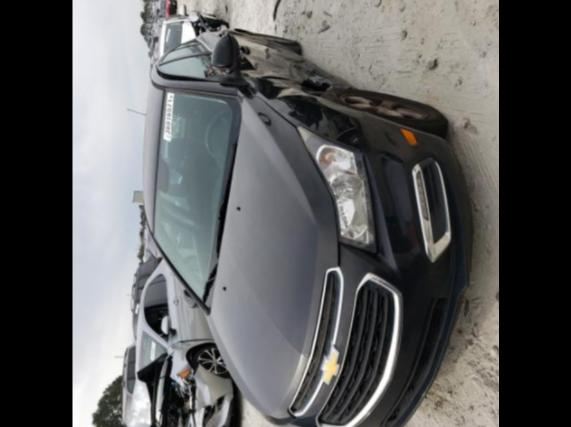Broken part: (156, 46, 339, 93)
Dent: (251, 79, 365, 148), (238, 41, 349, 100), (360, 114, 405, 160)
Paint chip: (382, 131, 399, 149)
Scratch: (307, 74, 345, 91), (262, 78, 301, 88), (276, 88, 313, 97), (246, 71, 290, 78), (241, 76, 255, 88)
